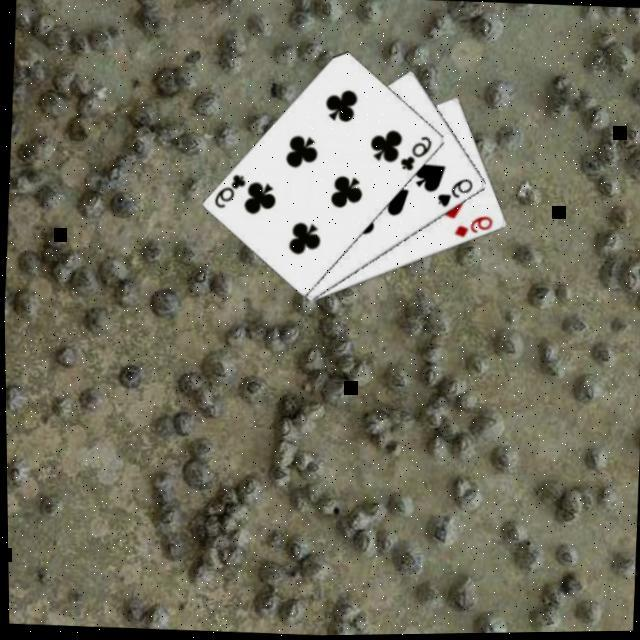6C: (398, 134, 439, 178), (213, 172, 251, 214)
9D: (453, 214, 497, 244)
9S: (434, 177, 478, 214)
